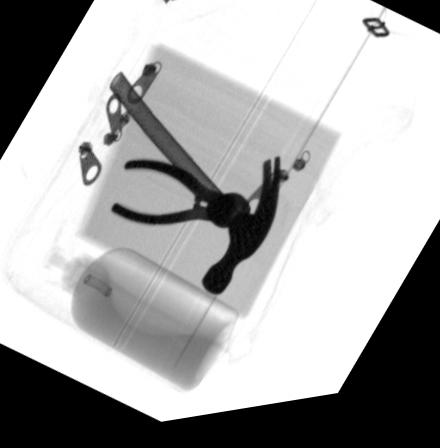Hammer: (109, 73, 281, 301)
Pliers: (111, 161, 251, 235)
